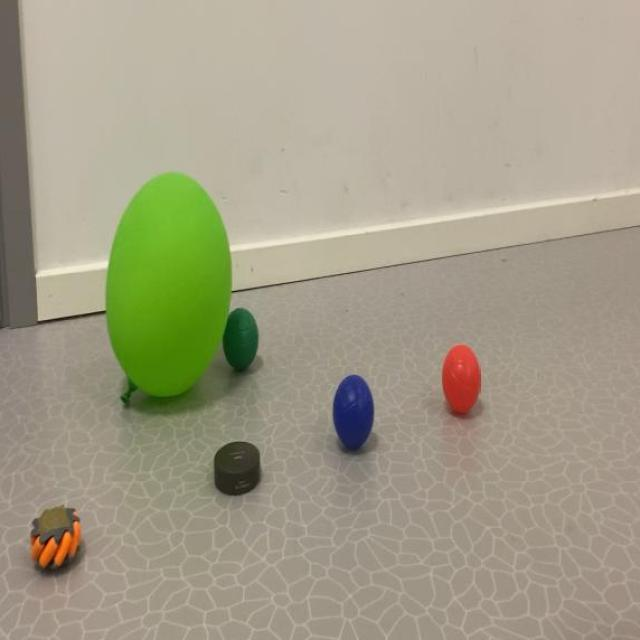blue ball: (326, 379, 380, 452)
green ball: (230, 306, 264, 372)
red ball: (437, 347, 490, 421)
